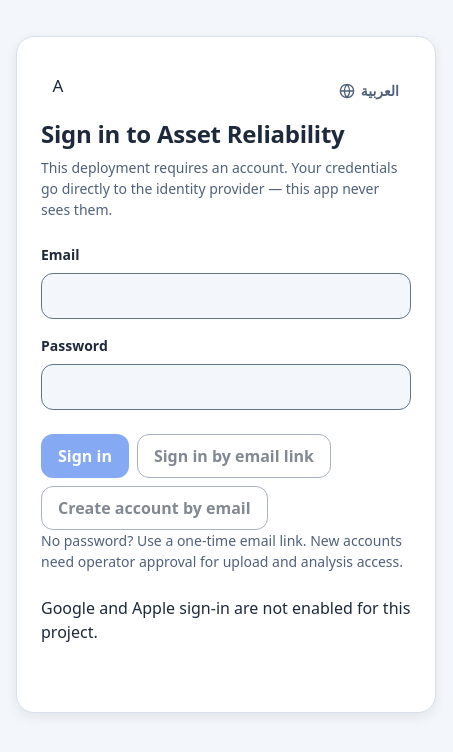
managed SignIn › requests Sign in by email link without claiming a session
The image size is (453, 752).
Step 1. Type "analyst@example.com" into the field labelled "Email" → point(226, 296), box 41,272 -> 411,318
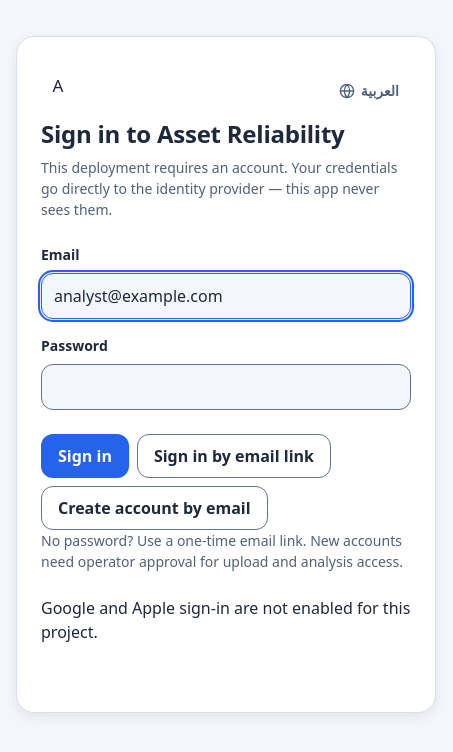
Step 2. Click the button "Sign in by email link" → point(234, 456), box 137,434 -> 331,478
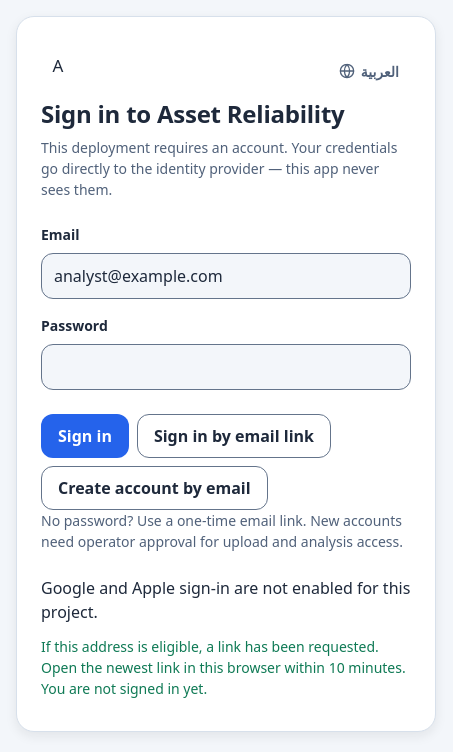
Expected: the text "You are not signed in yet" is shown, 41,637 -> 406,698
